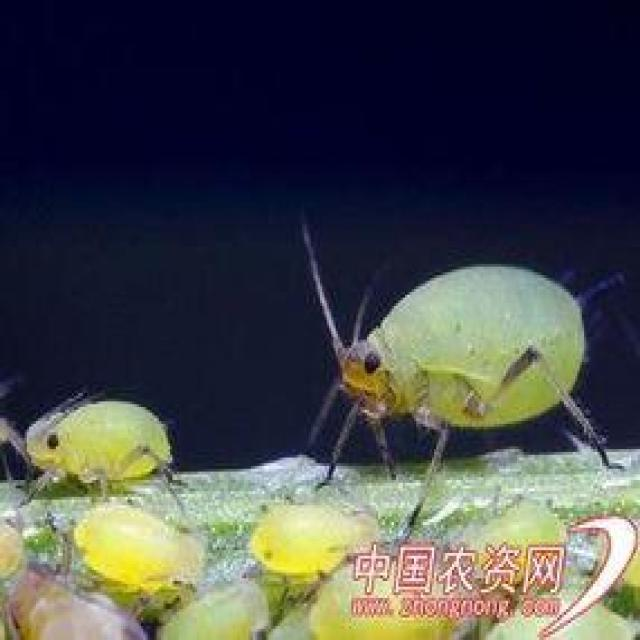Aphids: (267, 203, 628, 506), (10, 369, 207, 526)
